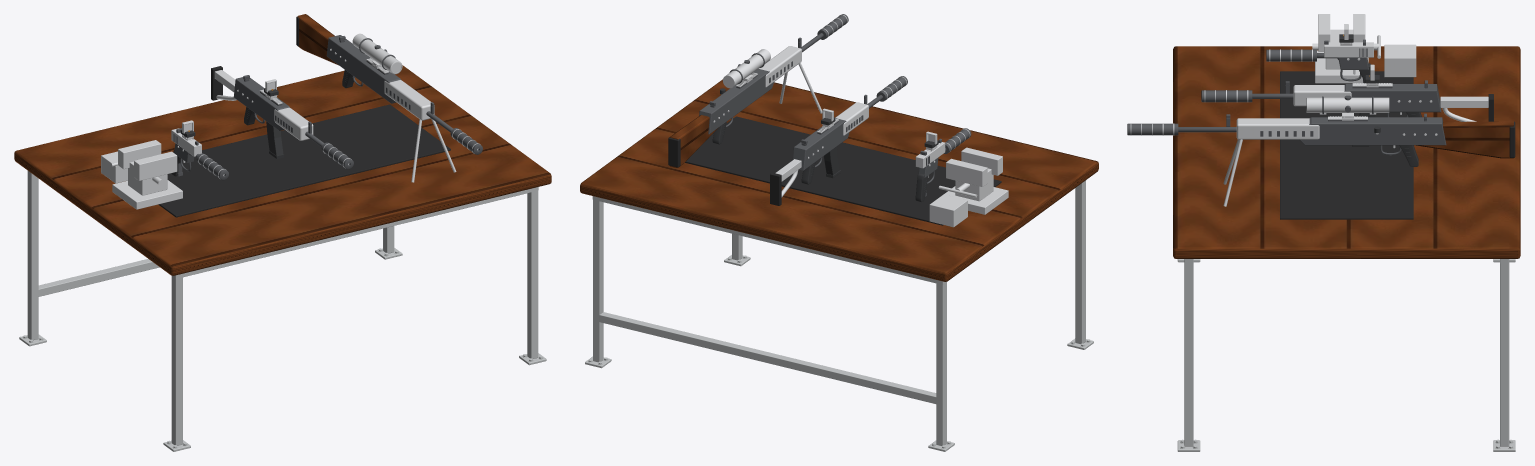
File: fps-weapon-set-and-firing-range-gunsmith-attachment-as-0ecfd1ef__19545.glb
The picture shows the model from 3 angles, left to right: view 1: azimuth 30°, elevation 25°; view 2: azimuth 150°, elevation 25°; view 3: azimuth 270°, elevation 25°; orthographic projection. The views are drawn at different scales.
Parts seen in each view (by area): view 1: 000-cleaning-bench/1, 000-cleaning-bench/2, 000-cleaning-bench/0, 009-bolt-sniper/0, 001-bench-vice/1, 001-bench-vice/0, 005-carbine-stock-removed/0, 009-bolt-sniper/5, 009-bolt-sniper/stock, 005-carbine-stock-removed/4, 010-precision-scope/0, 000-cleaning-bench/3; view 2: 000-cleaning-bench/1, 000-cleaning-bench/0, 000-cleaning-bench/2, 009-bolt-sniper/0, 001-bench-vice/1, 005-carbine-stock-removed/0, 001-bench-vice/0, 009-bolt-sniper/stock, 000-cleaning-bench/3, 009-bolt-sniper/5, 010-precision-scope/0, 005-carbine-stock-removed/4; view 3: 000-cleaning-bench/1, 000-cleaning-bench/2, 009-bolt-sniper/0, 000-cleaning-bench/0, 009-bolt-sniper/stock, 005-carbine-stock-removed/0, 009-bolt-sniper/5, 010-precision-scope/0, 000-cleaning-bench/3, 001-bench-vice/0, 001-bench-vice/1, 005-carbine-stock-removed/4 (+6 smaller).
Boxes of the visible parts, <box> form: 000-cleaning-bench/1: <box>14,65,551,275</box>; 000-cleaning-bench/2: <box>158,104,450,217</box>; 000-cleaning-bench/0: <box>19,171,546,451</box>; 009-bolt-sniper/0: <box>326,35,453,132</box>; 001-bench-vice/1: <box>110,140,177,185</box>; 001-bench-vice/0: <box>112,161,182,209</box>; 005-carbine-stock-removed/0: <box>233,75,324,146</box>; 009-bolt-sniper/5: <box>366,58,434,120</box>; 009-bolt-sniper/stock: <box>297,14,338,65</box>; 005-carbine-stock-removed/4: <box>259,89,313,140</box>; 010-precision-scope/0: <box>352,33,402,74</box>; 000-cleaning-bench/3: <box>101,151,127,183</box>; 000-cleaning-bench/1: <box>580,79,1098,281</box>; 000-cleaning-bench/0: <box>585,180,1093,451</box>; 000-cleaning-bench/2: <box>685,116,1001,225</box>; 009-bolt-sniper/0: <box>699,33,823,134</box>; 001-bench-vice/1: <box>938,147,1002,197</box>; 005-carbine-stock-removed/0: <box>792,94,882,170</box>; 001-bench-vice/0: <box>944,168,1008,214</box>; 009-bolt-sniper/stock: <box>669,115,718,167</box>; 000-cleaning-bench/3: <box>929,194,967,227</box>; 009-bolt-sniper/5: <box>736,46,801,87</box>; 010-precision-scope/0: <box>722,49,770,88</box>; 005-carbine-stock-removed/4: <box>817,102,868,135</box>; 000-cleaning-bench/1: <box>1173,46,1520,258</box>; 000-cleaning-bench/2: <box>1280,71,1413,219</box>; 009-bolt-sniper/0: <box>1178,113,1446,155</box>; 000-cleaning-bench/0: <box>1177,259,1515,451</box>; 009-bolt-sniper/stock: <box>1416,121,1513,158</box>; 005-carbine-stock-removed/0: <box>1252,80,1441,117</box>; 009-bolt-sniper/5: <box>1236,116,1367,139</box>; 010-precision-scope/0: <box>1306,97,1389,120</box>; 000-cleaning-bench/3: <box>1384,44,1416,77</box>; 001-bench-vice/0: <box>1315,29,1368,83</box>; 001-bench-vice/1: <box>1312,14,1380,58</box>; 005-carbine-stock-removed/4: <box>1293,83,1392,106</box>.
Bounding box in the file's own units: 1.8 × 1.26 × 1.47.
Materials: 7 (2 with a texture image).
